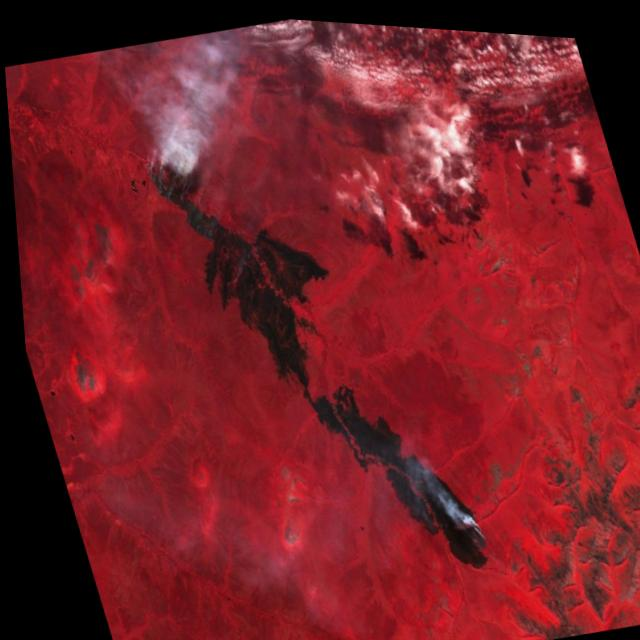fire: (128, 133, 214, 255), (439, 499, 491, 560)
